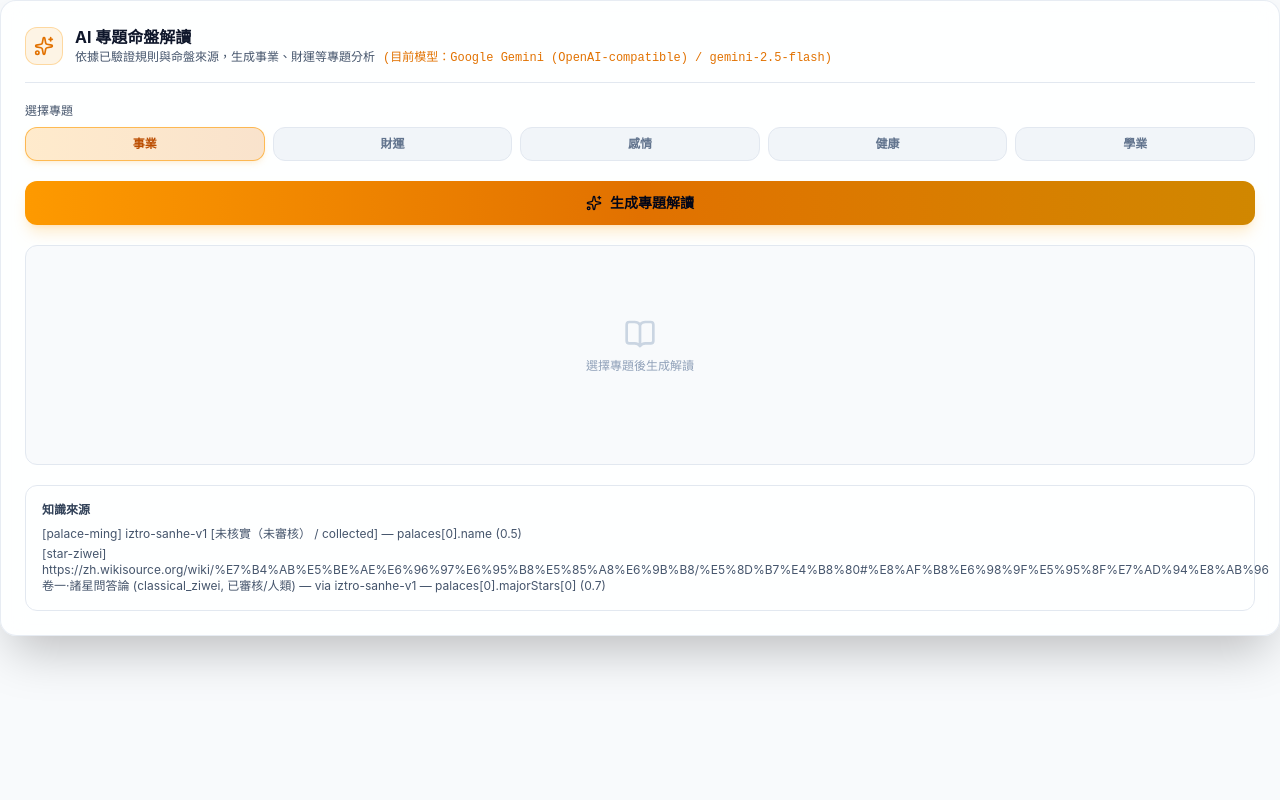
SpecialTopicPanel › sends the wealth assertion boundary in the localized system message
Click the radio button labelled "財運" at coordinates (392, 144), box top-left (273, 127), bottom-right (512, 161)
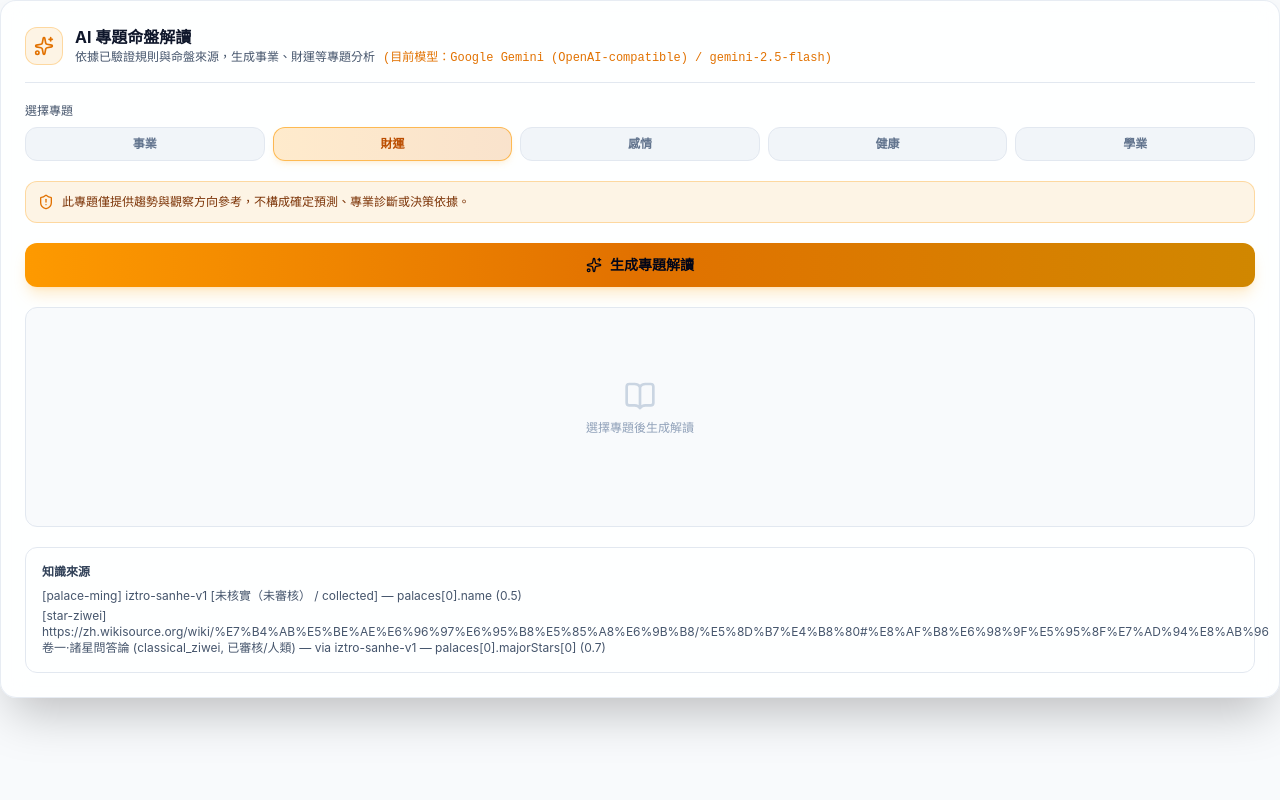
Click the button "生成專題解讀" at coordinates (640, 265), box top-left (25, 243), bottom-right (1255, 287)
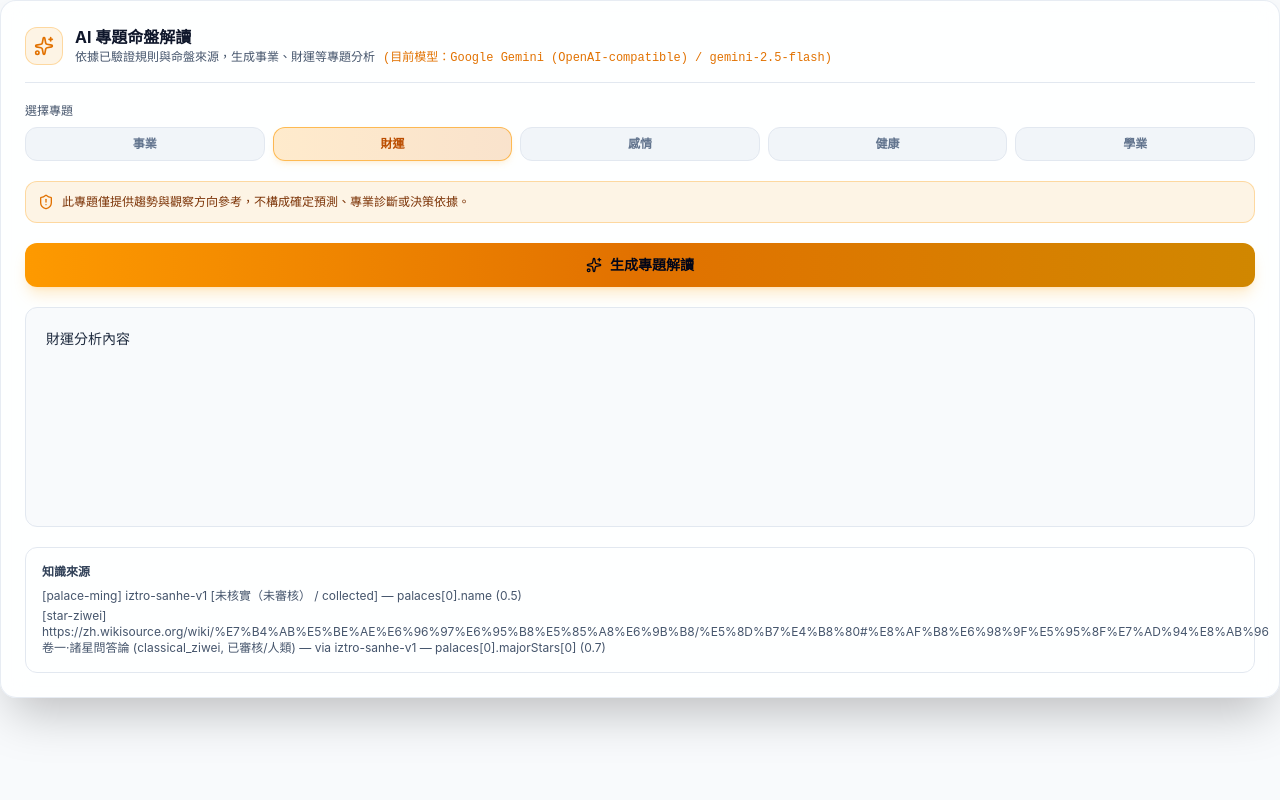
Result: the text "財運分析內容" is shown at top-left (46, 330), bottom-right (130, 347)
